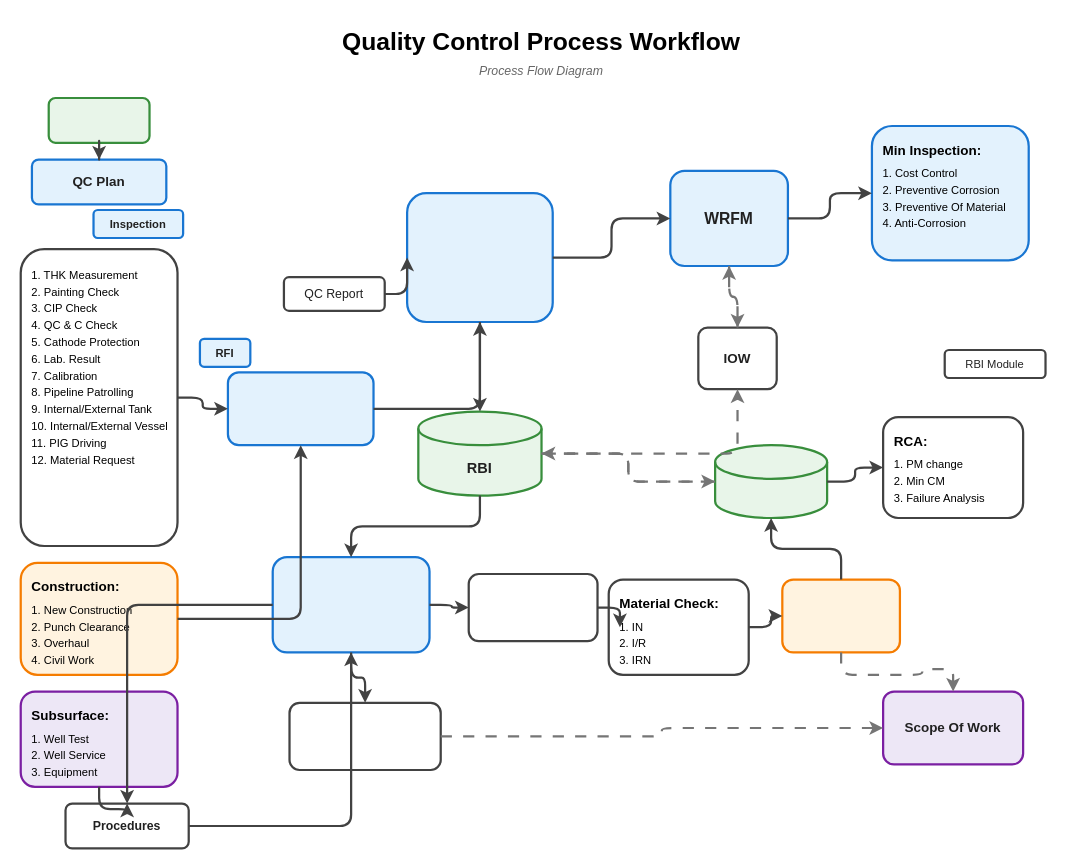
The diagram is 1065 pixels wide and 868 high, and some of its shapes have lost their labels. Each missing label, with the centre of its shape:
"1. MOC 2. Modification Of Design" belongs at point (364, 736).
"1. Technical Office 2. I.TP" belongs at point (532, 607).
"CMMS" belongs at point (770, 481).
"Engineering" belongs at point (350, 604).
"IDMS: 1. Process 2. KPIs 3. Management Status 4. QC Dashboard" belongs at point (479, 257).
"Start" belongs at point (98, 119).
"TPI Inspection" belongs at point (300, 408).
"Warehouse" belongs at point (840, 615).
